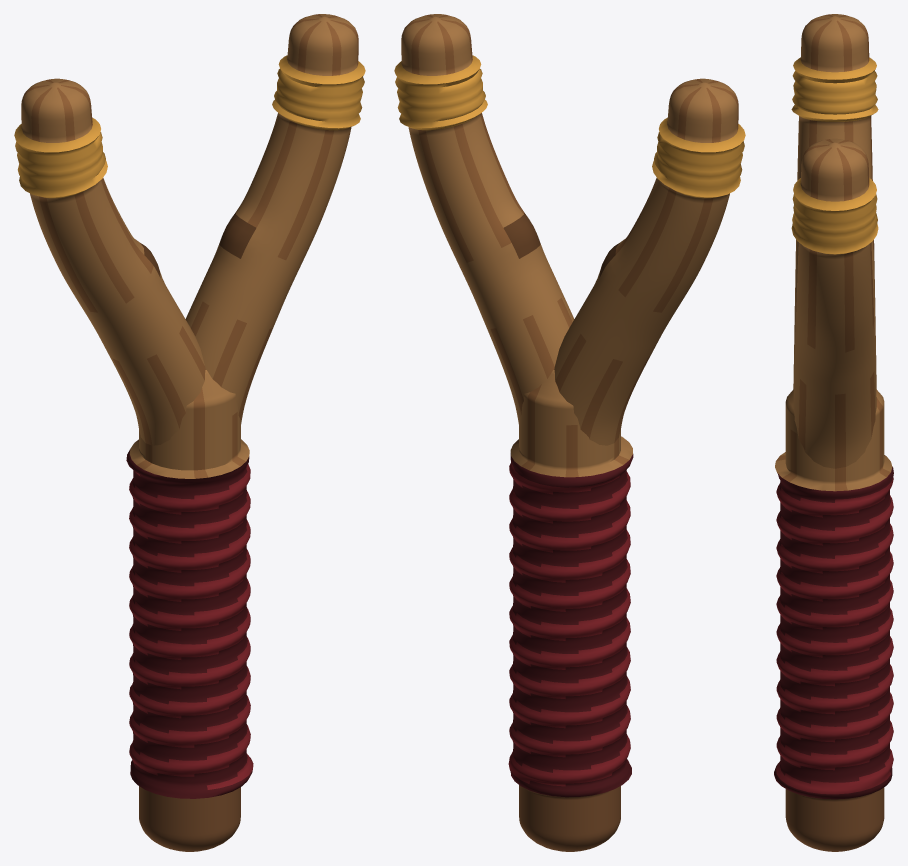
Rendered from Slingshot.fbx.
The picture shows the model from 3 angles, left to right: view 1: azimuth 30°, elevation 25°; view 2: azimuth 150°, elevation 25°; view 3: azimuth 270°, elevation 25°; orthographic projection. The views are drawn at different scales.
Visible parts, largest first — view 1: Slingshot; view 2: Slingshot; view 3: Slingshot.
Part boxes in pixels (x1,y1,x2,y2): Slingshot: (14,14,365,851); Slingshot: (394,14,745,851); Slingshot: (774,14,893,851).
Size of the model in its own units: 0.1034 by 0.2318 by 0.0328.
